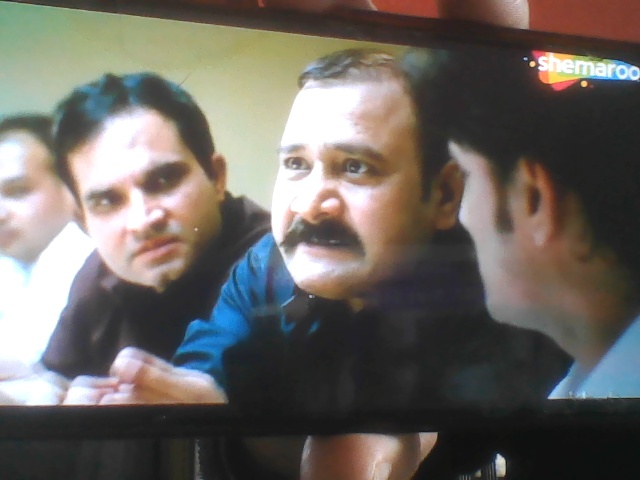fake: (254, 23, 456, 310), (68, 71, 230, 300)
